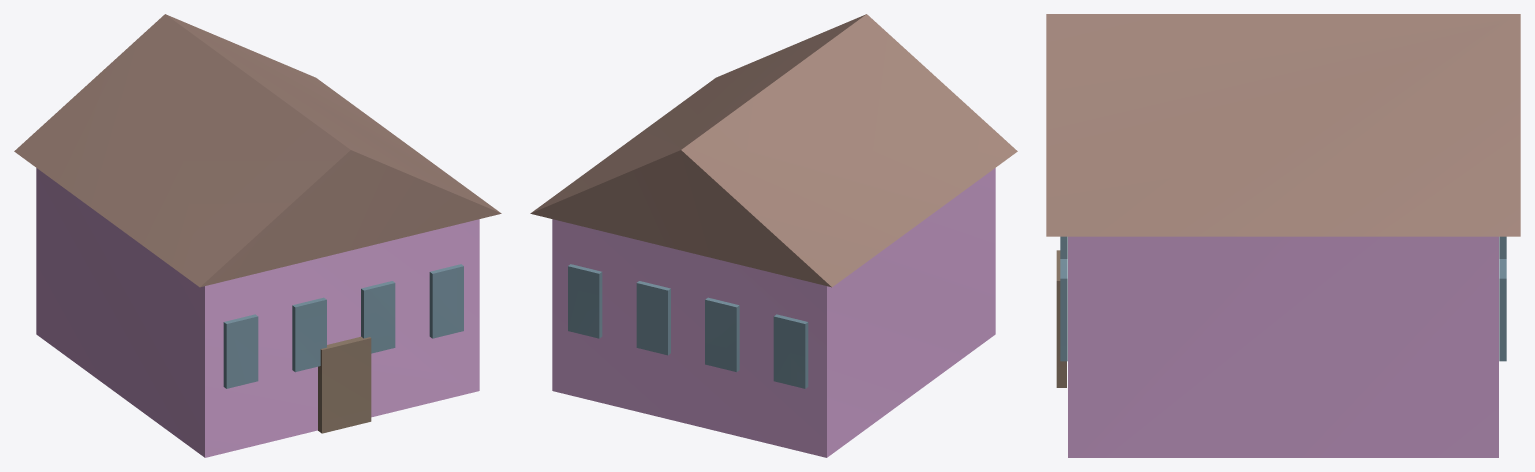
File: market-04.glb
3 renders of one model, left to right at view 1: azimuth 30°, elevation 25°; view 2: azimuth 150°, elevation 25°; view 3: azimuth 270°, elevation 25°, orthographic. The views are drawn at different scales.
Visible parts, largest first — view 1: world; view 2: world; view 3: world.
Part boxes in pixels (box(x1,y1,x2,y2)): world: box(14, 14, 501, 457); world: box(530, 14, 1017, 457); world: box(1046, 14, 1520, 457).
Bounding box in the file's own units: 1.51 × 1.34 × 1.61.
